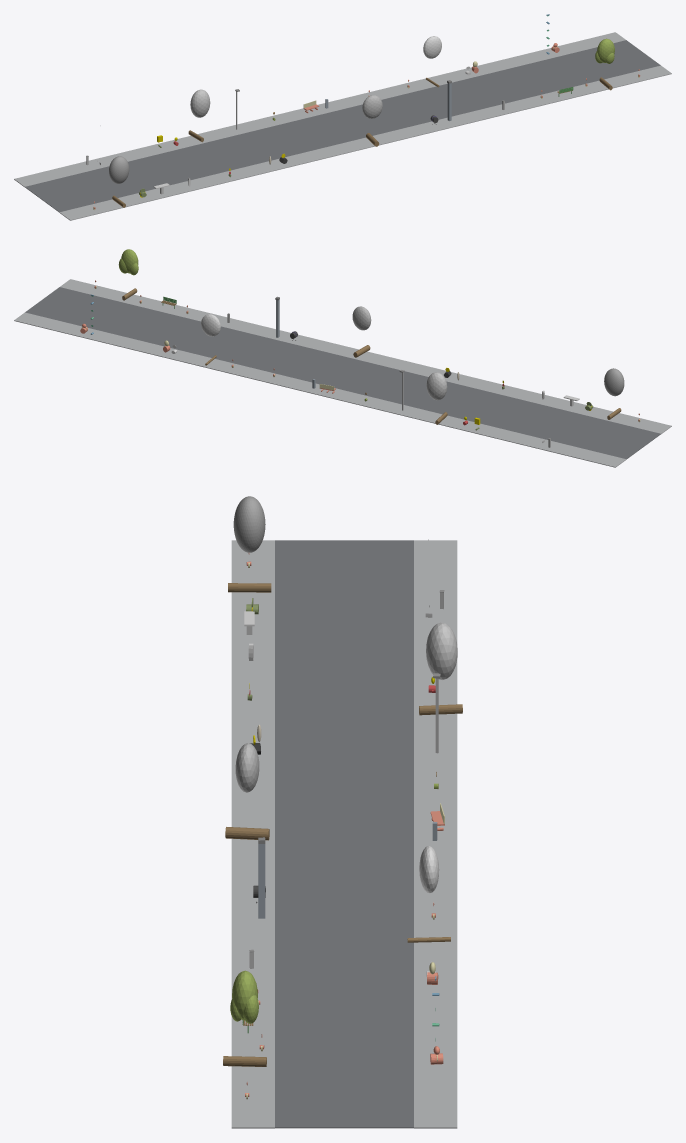
3 renders of one model, top to bottom at view 1: azimuth 30°, elevation 25°; view 2: azimuth 150°, elevation 25°; view 3: azimuth 270°, elevation 25°, orthographic. The views are drawn at different scales.
Visible parts, largest first — view 1: road_slab, sidewalk_left, sidewalk_right, inst_0013, inst_0012, inst_0016, inst_0014, inst_0015; view 2: road_slab, sidewalk_right, sidewalk_left, inst_0013, inst_0012, inst_0016, inst_0014, inst_0015; view 3: road_slab, sidewalk_right, sidewalk_left, inst_0012, inst_0013, inst_0016, inst_0014, inst_0015.
Boxes of the visible parts, x1,y1,x2,y2 form: road_slab: (25,40,660,212); sidewalk_left: (59,65,671,220); sidewalk_right: (14,32,625,187); inst_0013: (188,89,210,142); inst_0012: (109,156,129,207); inst_0016: (595,38,614,90); inst_0014: (362,95,382,146); inst_0015: (423,36,441,87); road_slab: (25,287,660,459); sidewalk_right: (14,312,626,467); sidewalk_left: (60,279,671,434); inst_0013: (426,372,447,424); inst_0012: (604,368,624,419); inst_0016: (118,249,138,300); inst_0014: (352,306,371,357); inst_0015: (201,314,220,365); road_slab: (275,540,413,1128); sidewalk_right: (414,540,457,1128); sidewalk_left: (231,540,274,1128); inst_0012: (228,496,271,592); inst_0013: (419,622,462,715); inst_0016: (223,970,266,1066); inst_0014: (225,743,269,840); inst_0015: (407,846,450,942).
Bounding box in the file's own units: 80 × 6.08 × 13.81.
